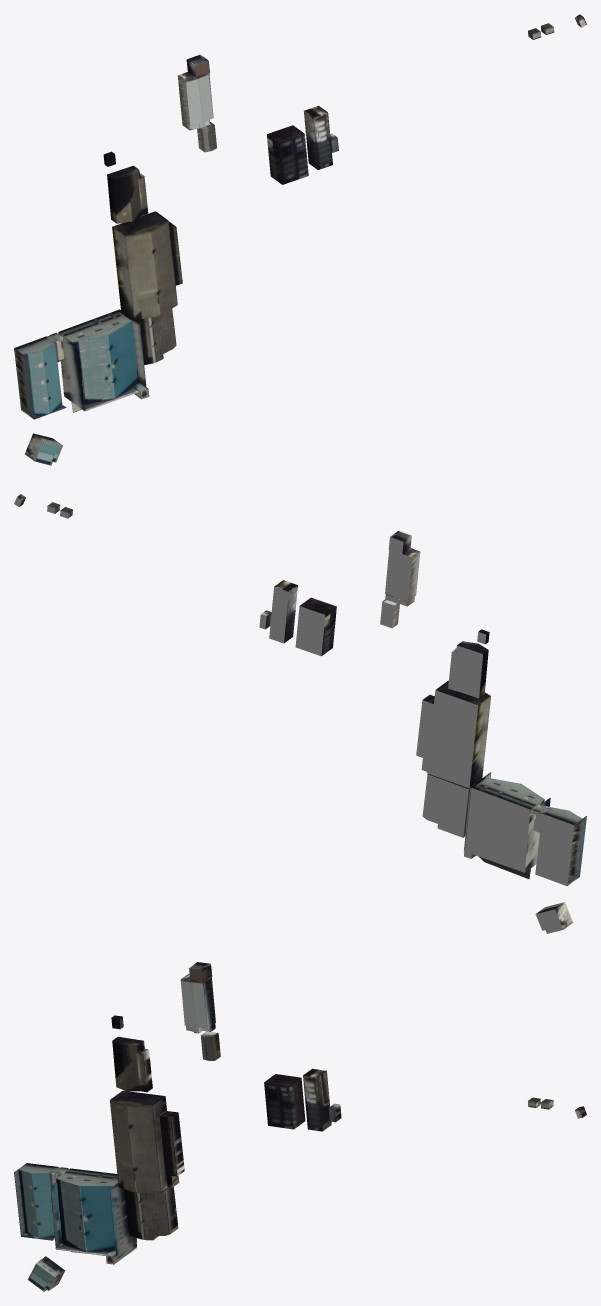
Rendered from 53393664_bldg_6677.obj.
3 views of the same model, one above another, from view 1: azimuth 30°, elevation 25°; view 2: azimuth 150°, elevation 25°; view 3: azimuth 330°, elevation 25° (orthographic).
Bounding box in the file's own units: 266 × 163 × 19.13.
Materials: 15 (15 with a texture image).
